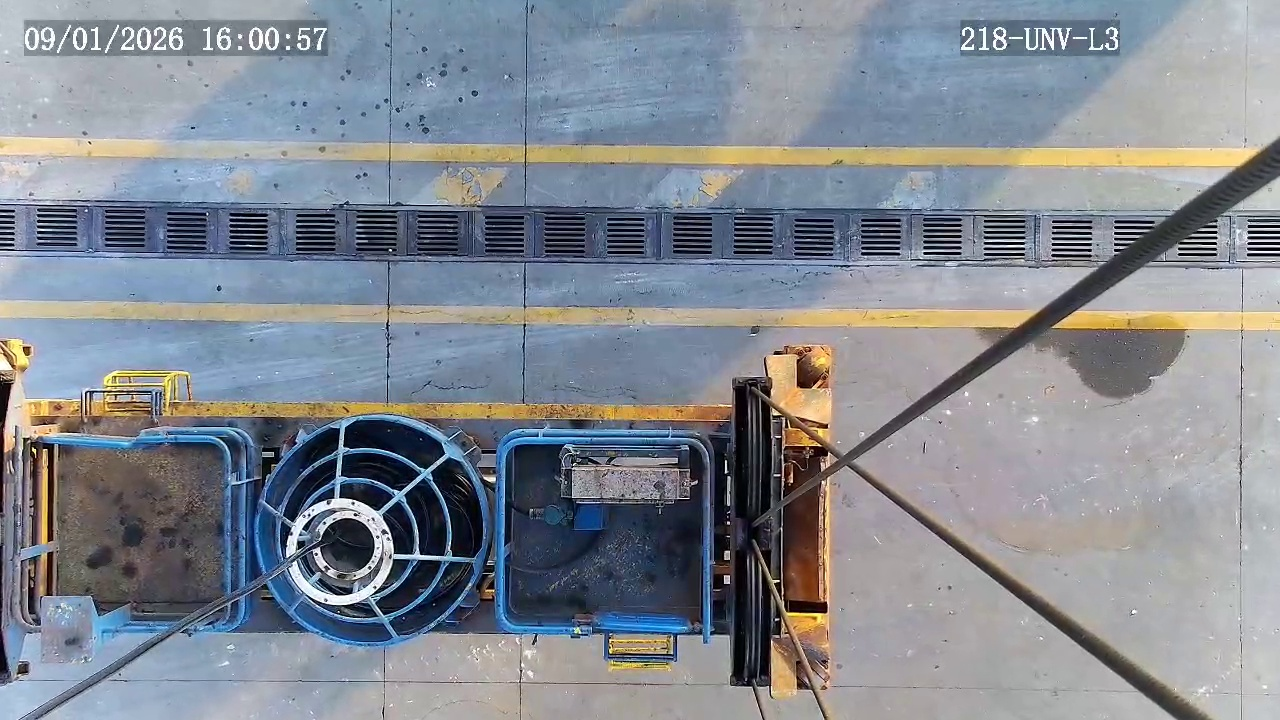right: (256, 417, 487, 645)
